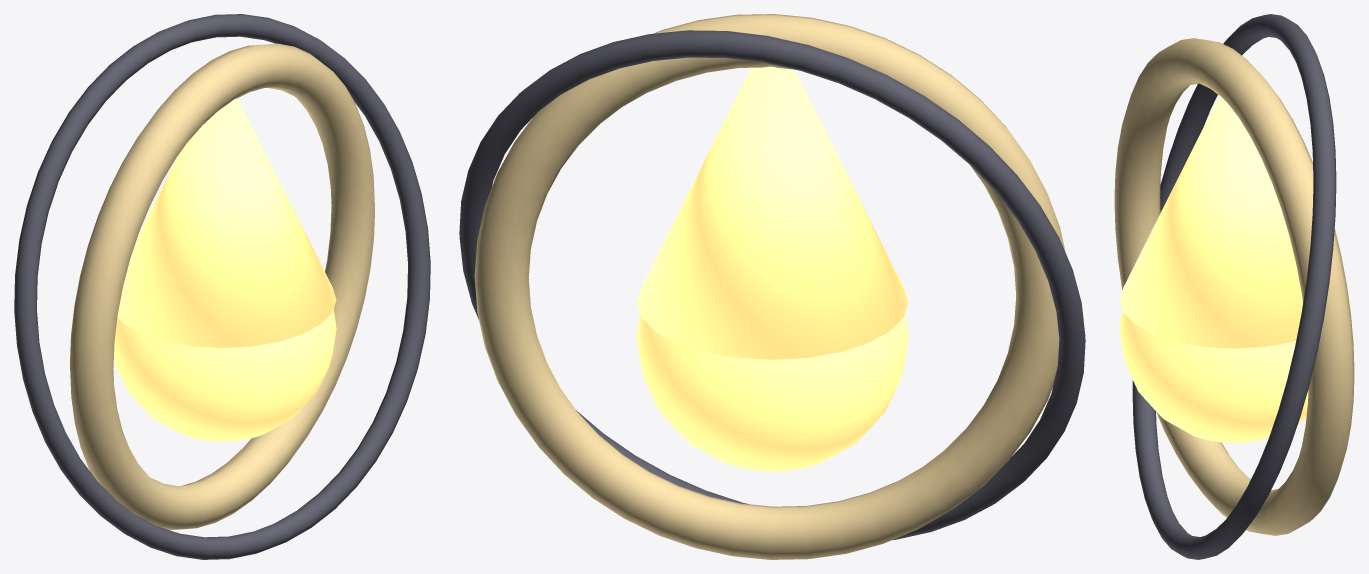
File: relic_4.glb
The picture shows the model from 3 angles, left to right: view 1: azimuth 30°, elevation 25°; view 2: azimuth 150°, elevation 25°; view 3: azimuth 270°, elevation 25°; orthographic projection. The views are drawn at different scales.
Visible parts, largest first — view 1: Sphere; view 2: Sphere; view 3: Sphere.
Part boxes in pixels (<box>): Sphere: <box>14,14,430,559</box>; Sphere: <box>459,14,1085,559</box>; Sphere: <box>1114,14,1354,559</box>.
Size of the model in its own units: 1.1 by 1.09 by 0.4904.
